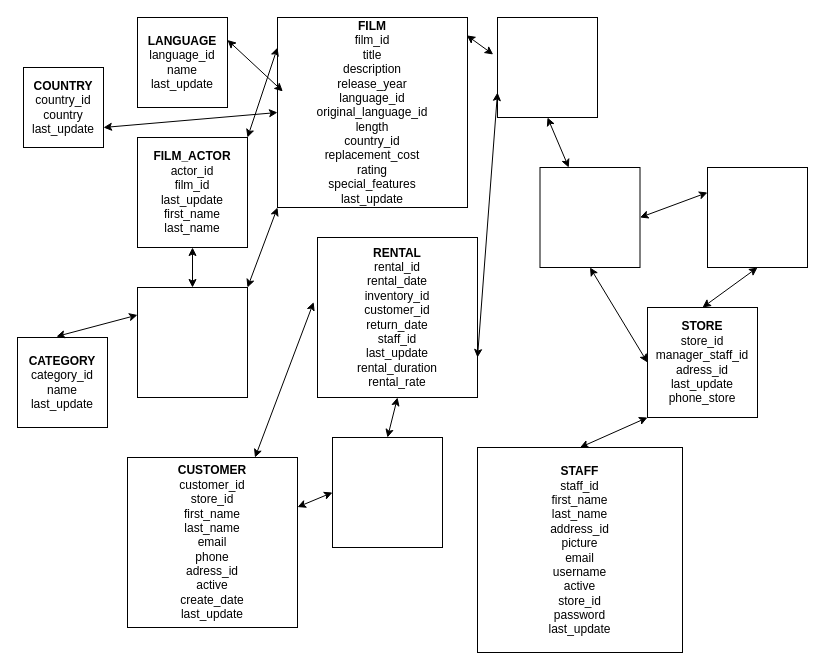
Image size: 825x670. Some labels were removed from this diagram. The shapes that lost their labels are listed below. From the top down, each one's centre as x and y in pixels, then its label:
[547,67]: INVENTORY inventory_id film_id store_id last_update
[589,217]: ADDRESS address_id full_address city_id postal_code last_update
[757,217]: CITY city_id city country_id last_update district
[192,342]: FILM_CATEGORY film_id category_id last_update
[387,492]: PAYMENT payment_id customer_id rental_id amount payment_date last_update
